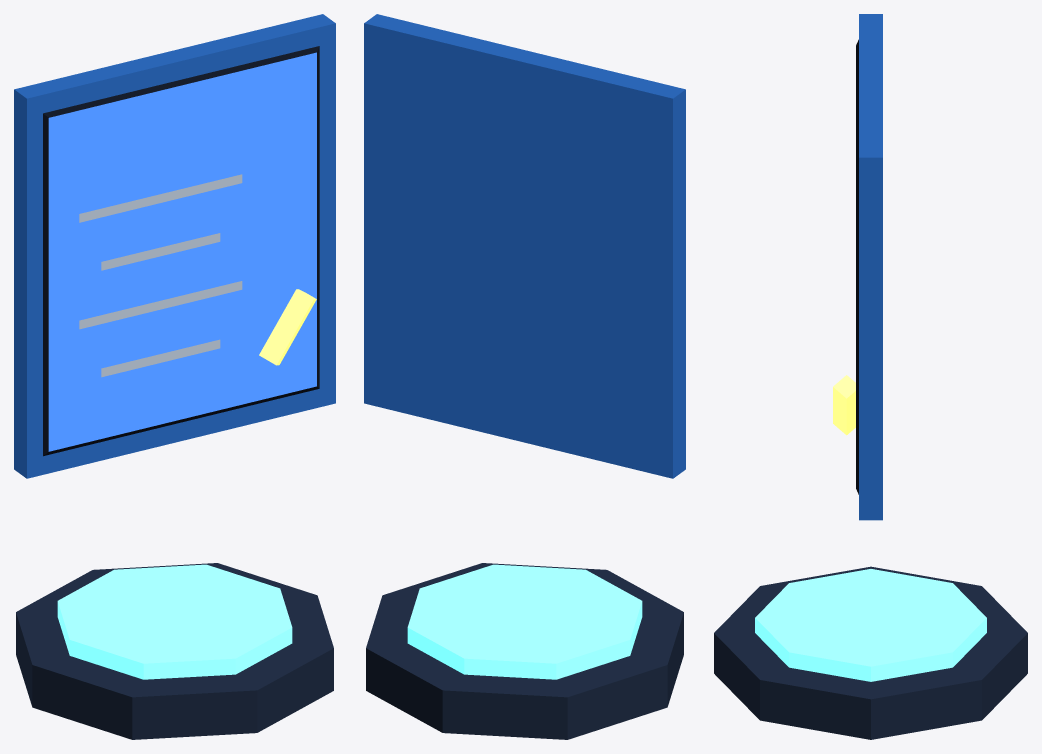
The model's file is Fragment_Draft.fbx.
3 renders of one model, left to right at view 1: azimuth 30°, elevation 25°; view 2: azimuth 150°, elevation 25°; view 3: azimuth 270°, elevation 25°, orthographic. The views are drawn at different scales.
Visible parts, largest first — view 1: KIT_Fragment_Draft_Card, KIT_Fragment_Draft_Base; view 2: KIT_Fragment_Draft_Card, KIT_Fragment_Draft_Base; view 3: KIT_Fragment_Draft_Base, KIT_Fragment_Draft_Card.
Boxes of the visible parts, box(x1,y1,x2,y2) form: KIT_Fragment_Draft_Card: box(14, 14, 335, 478); KIT_Fragment_Draft_Base: box(16, 563, 333, 739); KIT_Fragment_Draft_Card: box(364, 14, 685, 478); KIT_Fragment_Draft_Base: box(366, 563, 683, 739); KIT_Fragment_Draft_Base: box(714, 566, 1027, 739); KIT_Fragment_Draft_Card: box(833, 14, 882, 520).
Size of the model in its own units: 0.91 by 1.74 by 0.84.
